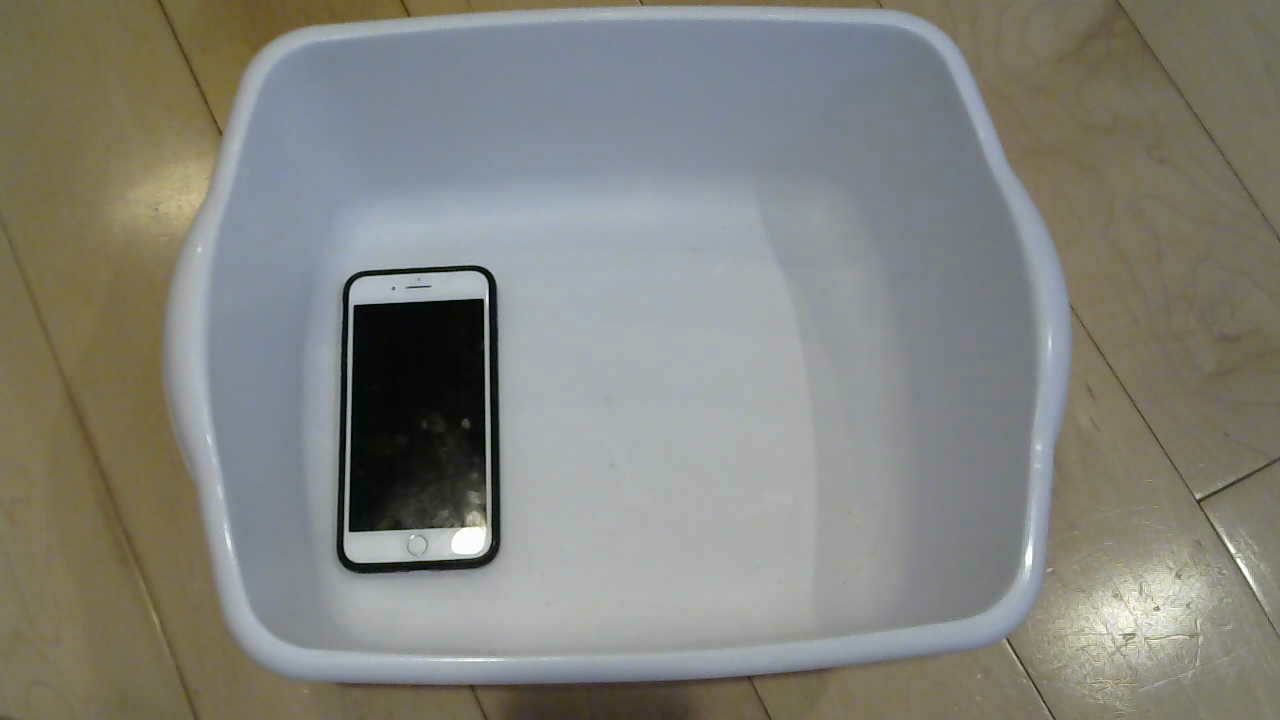phone: (315, 262, 514, 580)
